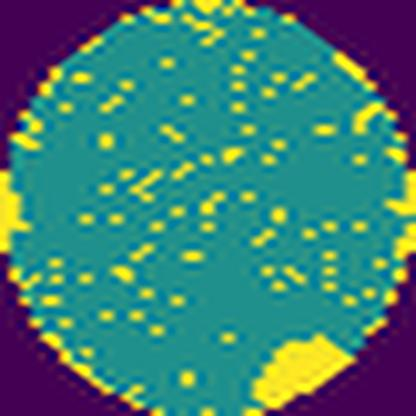Edge-Loc: (248, 334, 356, 414), (0, 168, 38, 252), (383, 168, 415, 219)
